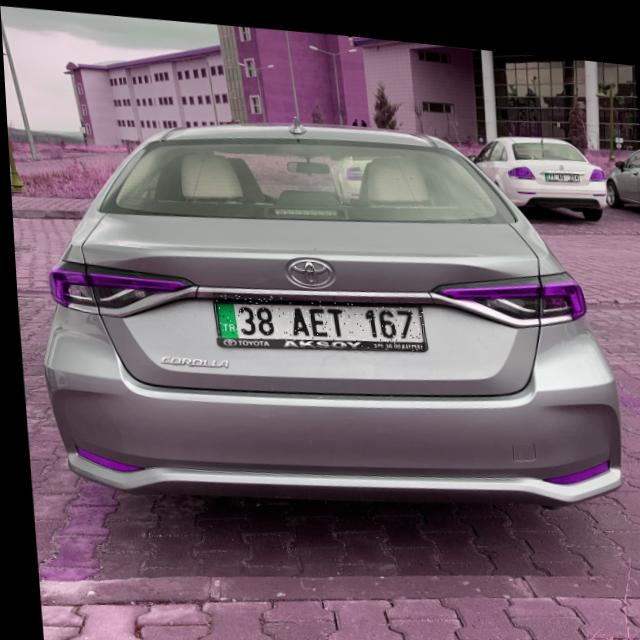license_plate: (208, 282, 422, 348)
